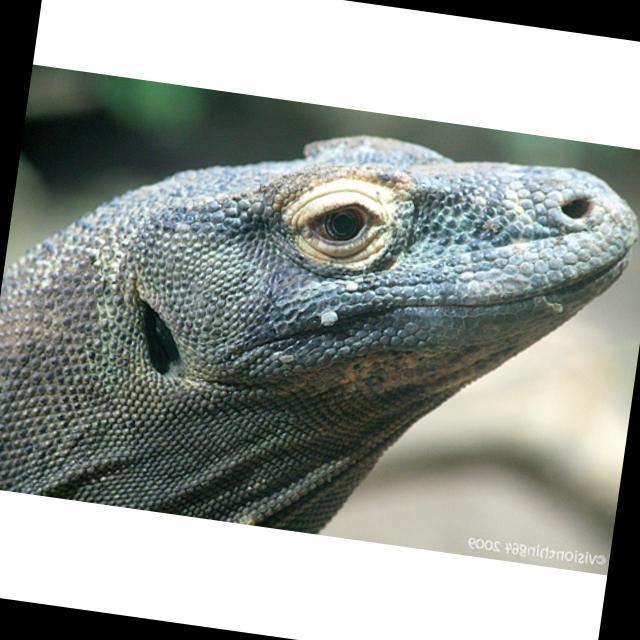KomodoDragon: (0, 83, 640, 571)
